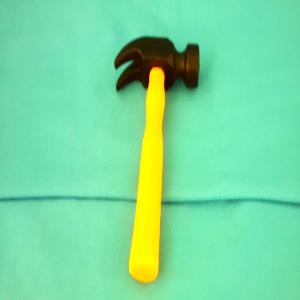martelo: (113, 35, 200, 284)
